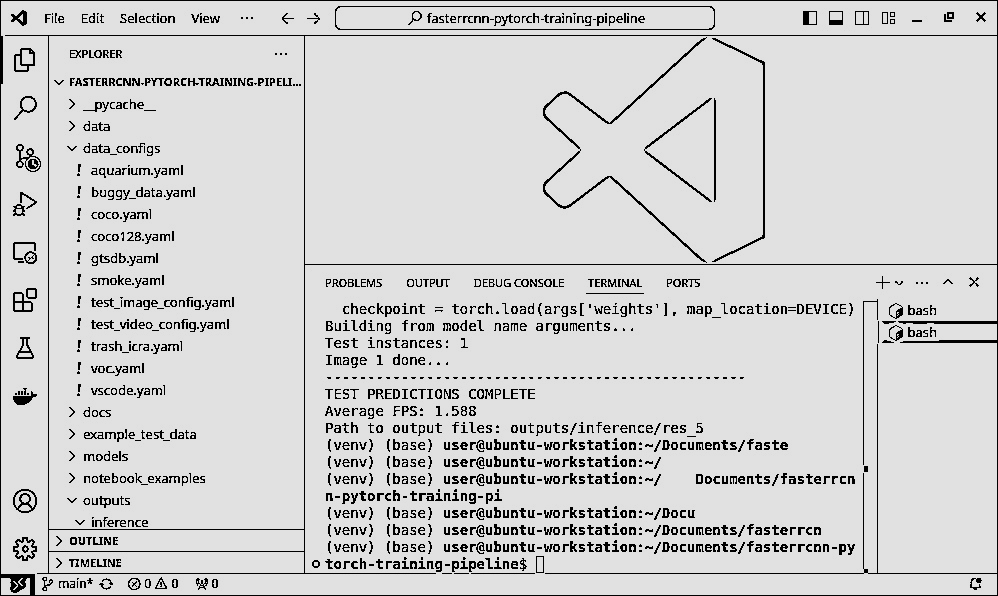Accounts: (2, 480, 42, 515)
Activity Bar: (1, 33, 44, 572)
Close: (301, 261, 995, 571), (968, 6, 988, 26)
Editor: (304, 34, 994, 258)
Explorer: (6, 42, 41, 77)
Extensions: (5, 278, 39, 313)
Manage: (8, 529, 40, 561)
Maximize: (936, 5, 959, 25)
Minimize: (905, 7, 926, 24)
Primary Side Bar: (47, 31, 305, 571)
Run and Debug: (4, 183, 39, 218)
Search: (2, 90, 39, 123)
Search Bar: (326, 3, 717, 31)
Source Control: (4, 134, 40, 174)
Status Bar: (0, 571, 993, 591)
Testing: (2, 327, 40, 365)
Top Bar: (2, 2, 993, 32)
